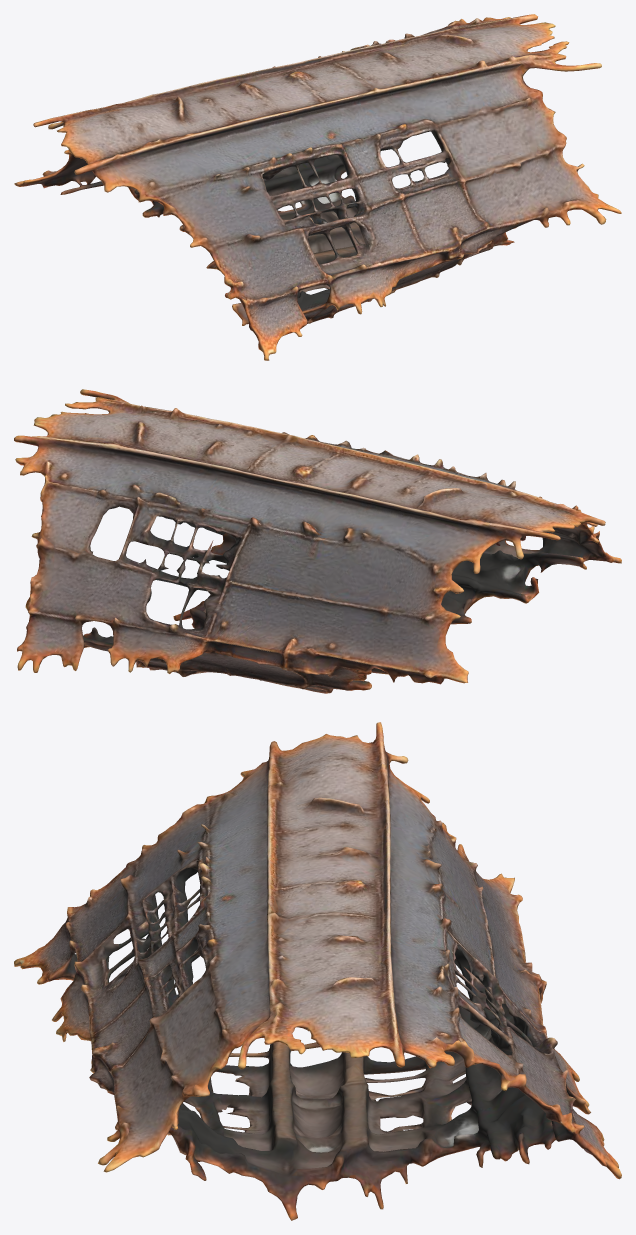
Rendered from rustedmetalpanel.glb.
3 views of the same model, one above another, from view 1: azimuth 30°, elevation 25°; view 2: azimuth 150°, elevation 25°; view 3: azimuth 270°, elevation 25° (orthographic). The views are drawn at different scales.
Visible parts, largest first — view 1: input; view 2: input; view 3: input.
Boxes of the visible parts, x1=… form: input: x1=14, y1=14, x2=621, y2=360; input: x1=14, y1=389, x2=621, y2=693; input: x1=14, y1=722, x2=621, y2=1220.
Bounding box in the file's own units: 1.5 × 0.585 × 1.23.
1 material, 1 textured.
